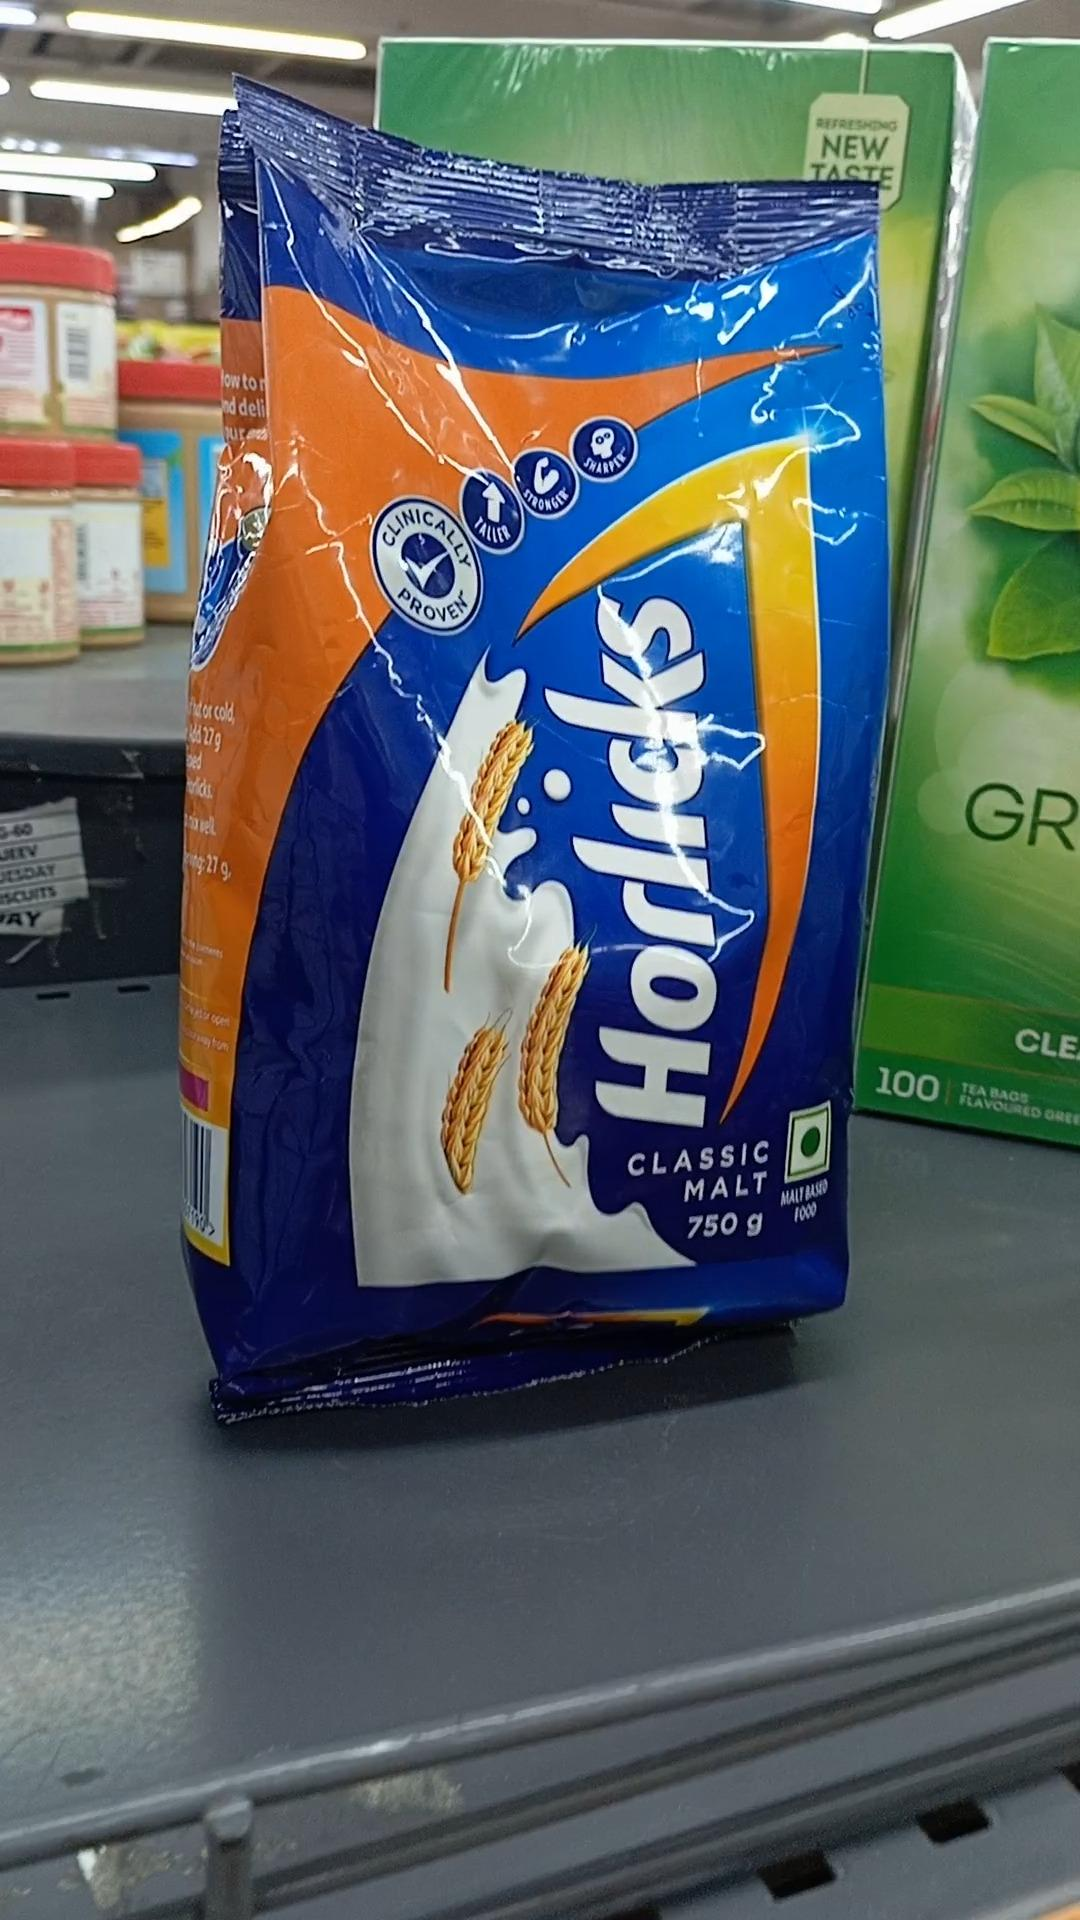HORLICK_CLASSIC_MALT_750_G_POUCH: (185, 90, 865, 1375)
